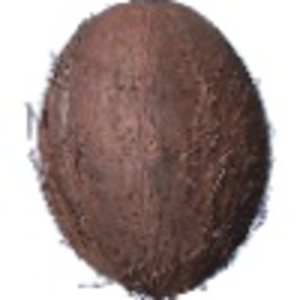coco: (28, 1, 276, 300)
